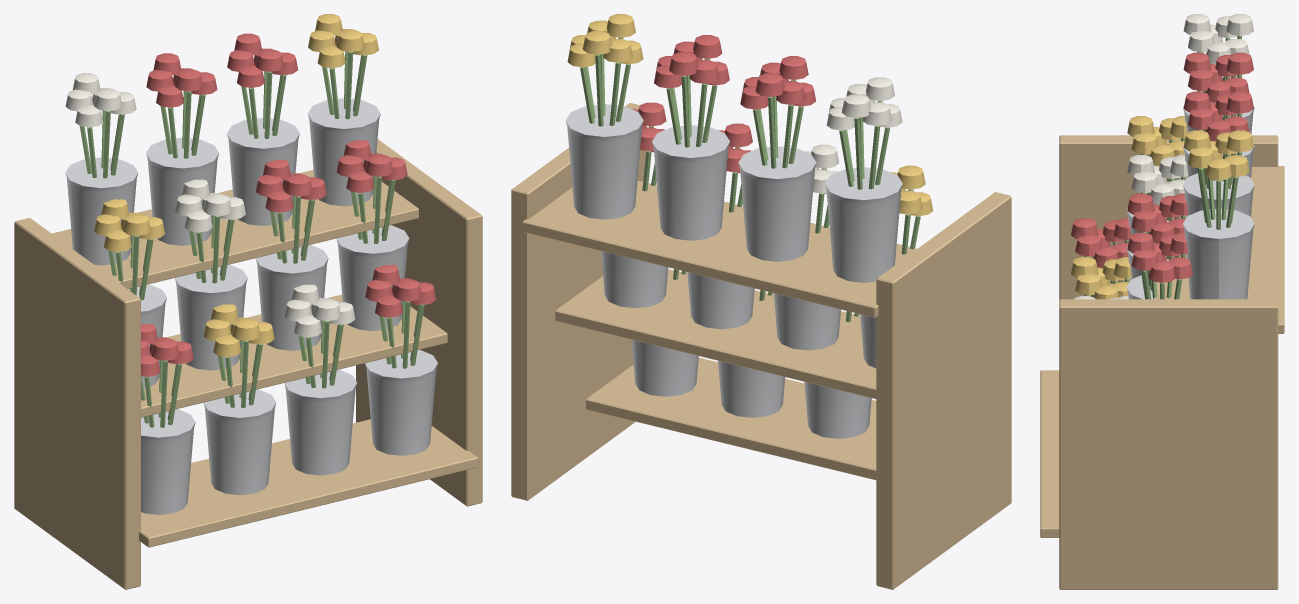
The picture shows the model from 3 angles, left to right: view 1: azimuth 30°, elevation 25°; view 2: azimuth 150°, elevation 25°; view 3: azimuth 270°, elevation 25°; orthographic projection. The views are drawn at different scales.
Parts seen in each view (by area): view 1: flower-bucket-display; view 2: flower-bucket-display; view 3: flower-bucket-display.
Part boxes in pixels (x1,y1,x2,y2): flower-bucket-display: (14, 14, 482, 589); flower-bucket-display: (511, 14, 1011, 589); flower-bucket-display: (1040, 14, 1284, 589).
Size of the model in its own units: 1.3 by 1.51 by 0.7801.
